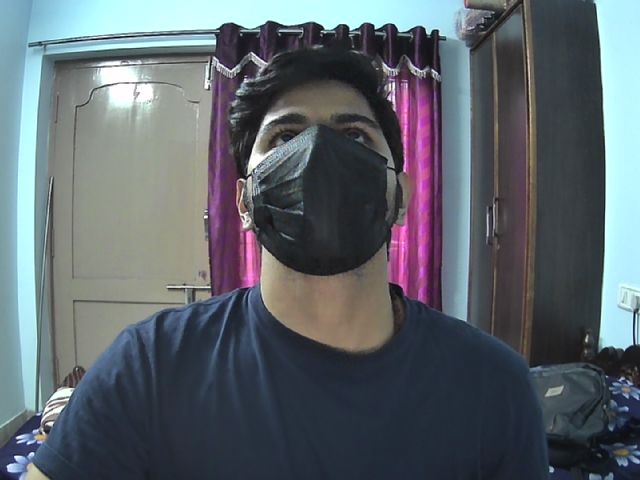Mask: (251, 154, 396, 284)
